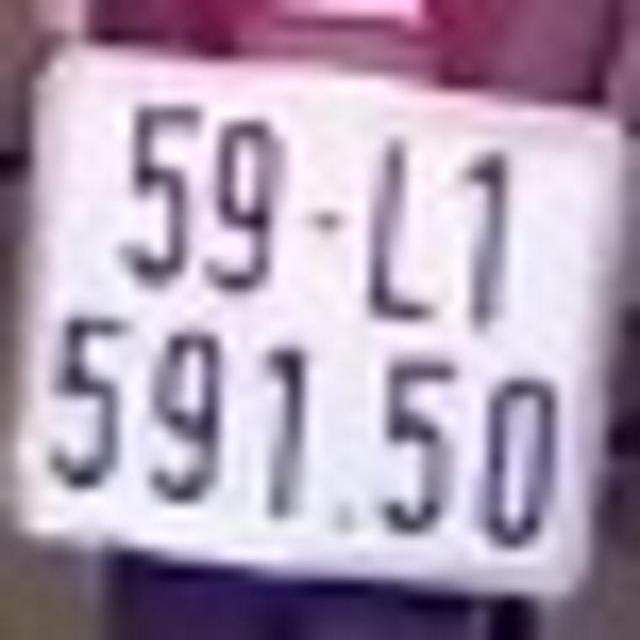0: (479, 354, 556, 557)
1: (250, 333, 313, 532), (458, 136, 516, 338)
5: (380, 345, 470, 546), (116, 88, 200, 299), (50, 304, 129, 495)
9: (140, 314, 224, 508), (205, 108, 278, 300)
L: (360, 120, 443, 330)
